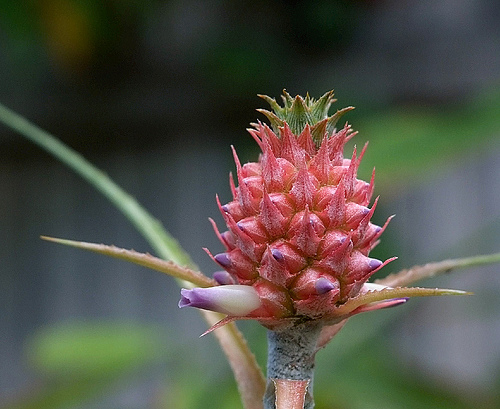pineapple: (190, 86, 405, 348)
